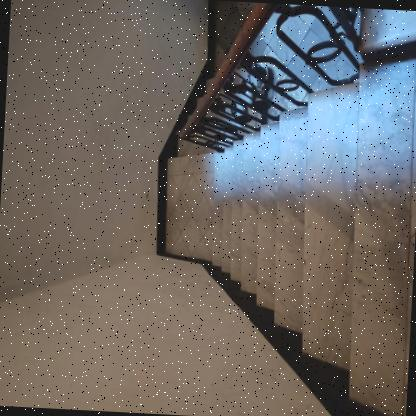stair: (137, 98, 416, 344)
